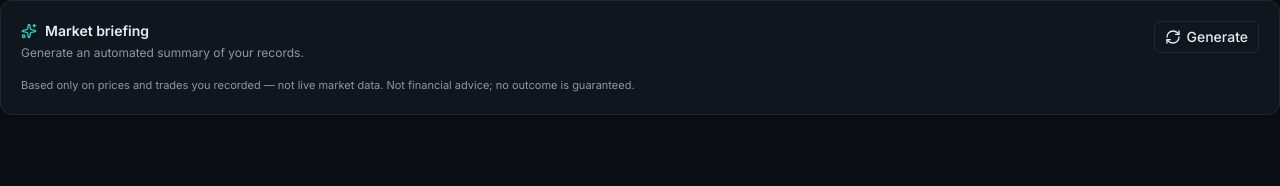
Test: loading and error states › shows a loading state while a briefing is generated, then the error
This screenshot has width=1280, height=186.
Later steps or results of the test are not shown.
Click the button "Generate". click: (1206, 37)
box: [1154,21,1259,53]
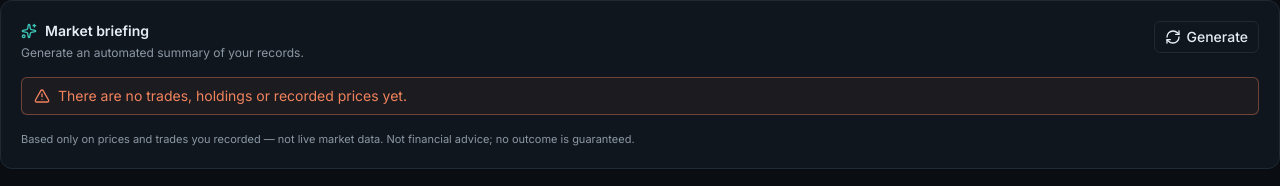
Result: the text "There are no trades, holdings or recorded prices yet." is shown at [21,77,1259,115]
